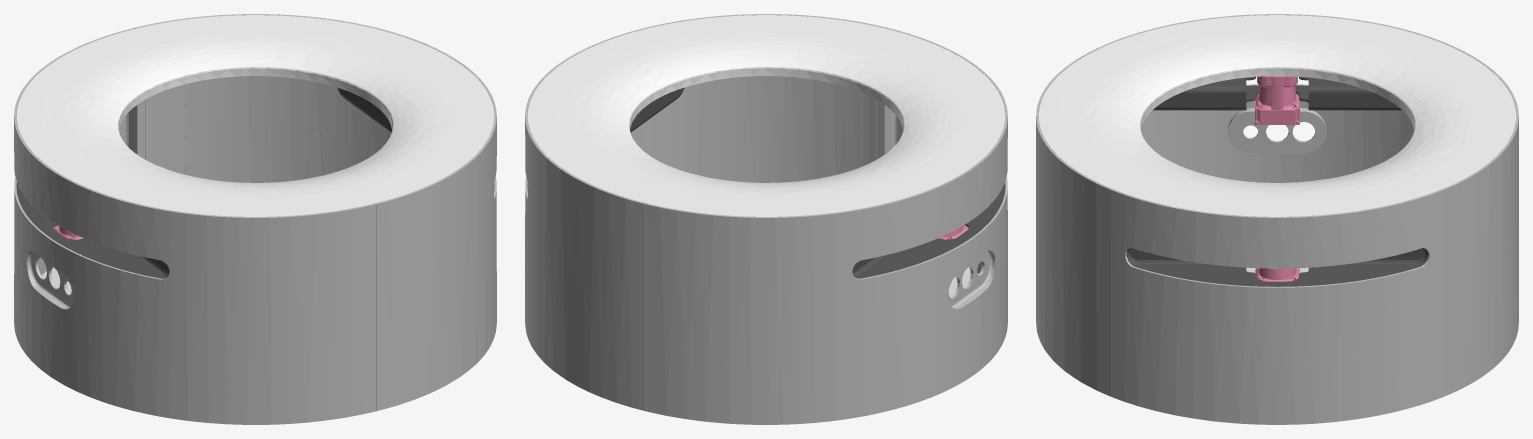
Rendered from mobile_assy.dae.
3 renders of one model, left to right at view 1: azimuth 30°, elevation 25°; view 2: azimuth 150°, elevation 25°; view 3: azimuth 270°, elevation 25°, orthographic.
Visible parts, largest first — view 1: Untitled_017, Untitled_024, Untitled_023, Untitled_022, Untitled_018; view 2: Untitled_017, Untitled_024, Untitled_023, Untitled_022, Untitled_018; view 3: Untitled_023, Untitled_024, Untitled_017, Untitled_018, Untitled_022, Untitled_020, Untitled_029.
Part boxes in pixels (x1,y1,x2,y2): Untitled_017: [14, 27, 375, 424]; Untitled_024: [16, 15, 494, 216]; Untitled_023: [135, 14, 496, 411]; Untitled_022: [16, 182, 169, 278]; Untitled_018: [338, 88, 494, 191]; Untitled_017: [646, 27, 1007, 424]; Untitled_024: [527, 15, 1005, 216]; Untitled_023: [525, 14, 886, 411]; Untitled_022: [852, 182, 1005, 278]; Untitled_018: [527, 88, 684, 191]; Untitled_023: [1036, 116, 1518, 424]; Untitled_024: [1038, 15, 1516, 216]; Untitled_017: [1036, 14, 1518, 182]; Untitled_018: [1126, 248, 1428, 286]; Untitled_022: [1153, 76, 1401, 110]; Untitled_020: [1255, 76, 1299, 124]; Untitled_029: [1255, 268, 1299, 281].
Size of the model in its own units: 0.6362 by 0.6362 by 0.303.
